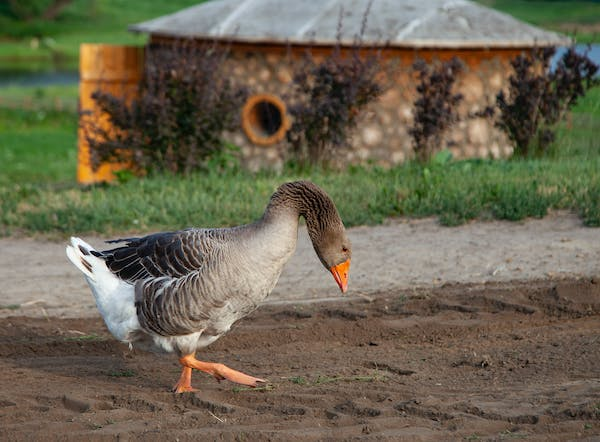Walking: (53, 136, 379, 425)
